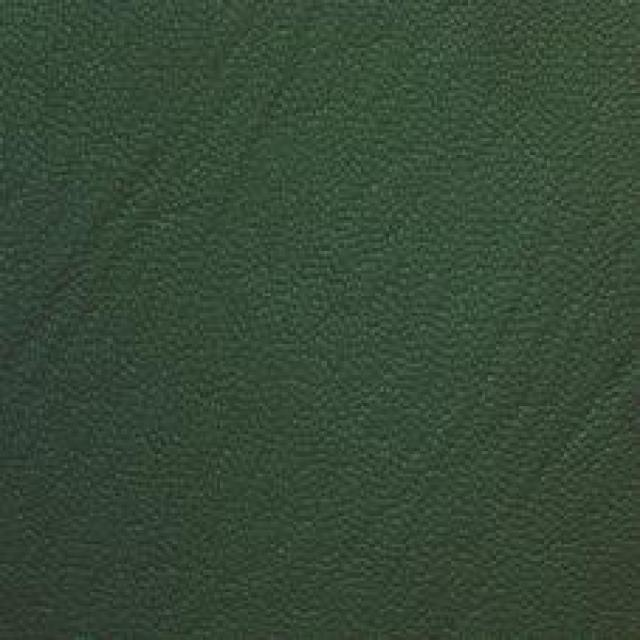Growth Marks: (423, 299, 598, 549), (51, 115, 210, 353)
